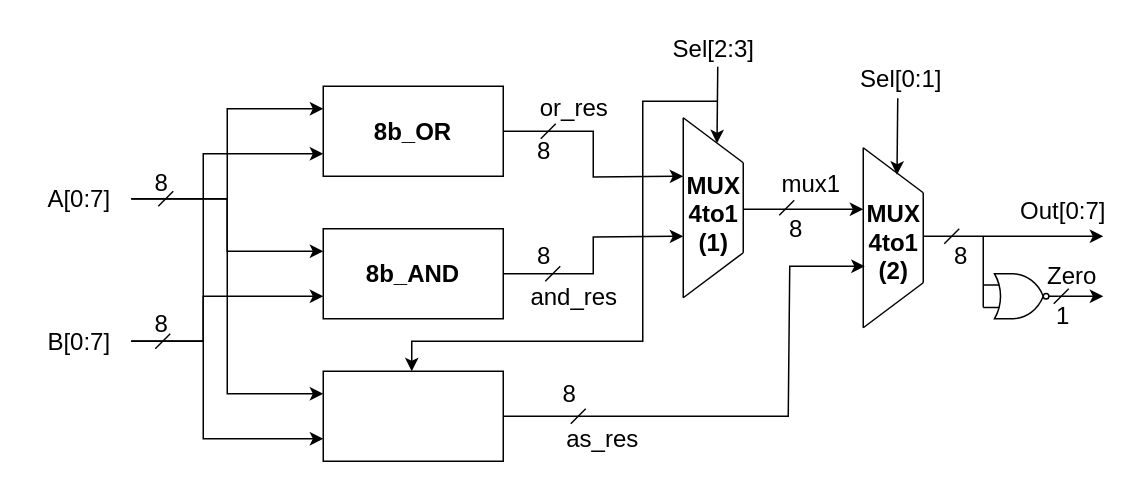
Image size: 1148x488. Some labels were removed from this diagram. The box of each missing label's shape, as (x1, y1, x2, y2) in pixels:
8b_ADD/SUB: (322, 370, 503, 461)
NOR: (982, 272, 1058, 319)
